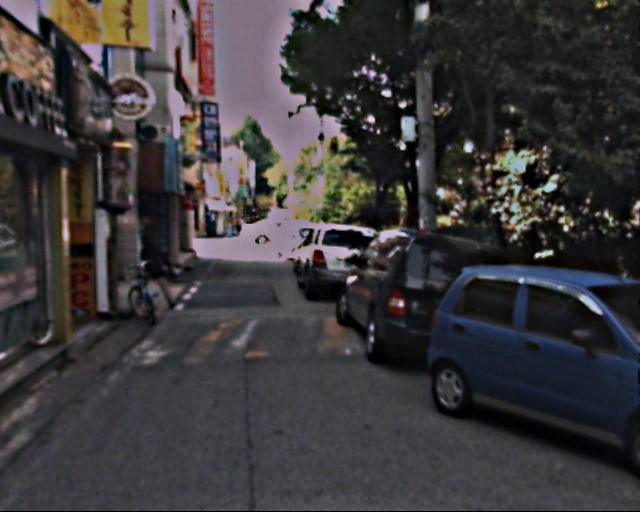person: (135, 227, 169, 309)
